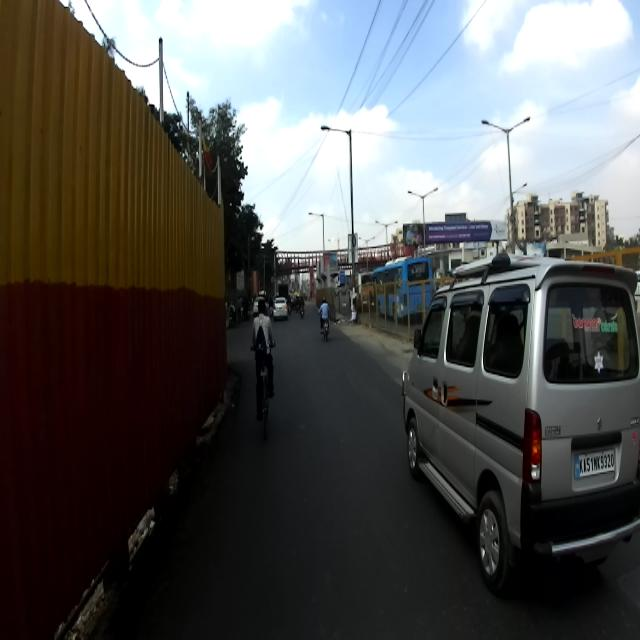bicycle ahead at: (248, 344, 279, 432)
car ahead at: (394, 250, 640, 604)
